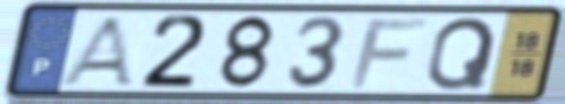2: (136, 12, 210, 92)
3: (285, 13, 351, 91)
8: (215, 12, 282, 92)
A: (54, 13, 139, 89)
F: (346, 16, 432, 91)
Q: (422, 14, 500, 93)
